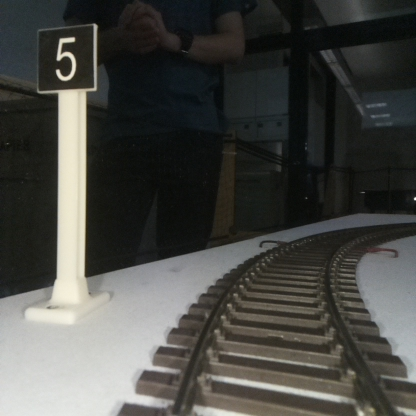black-info-5: (38, 25, 93, 318)
